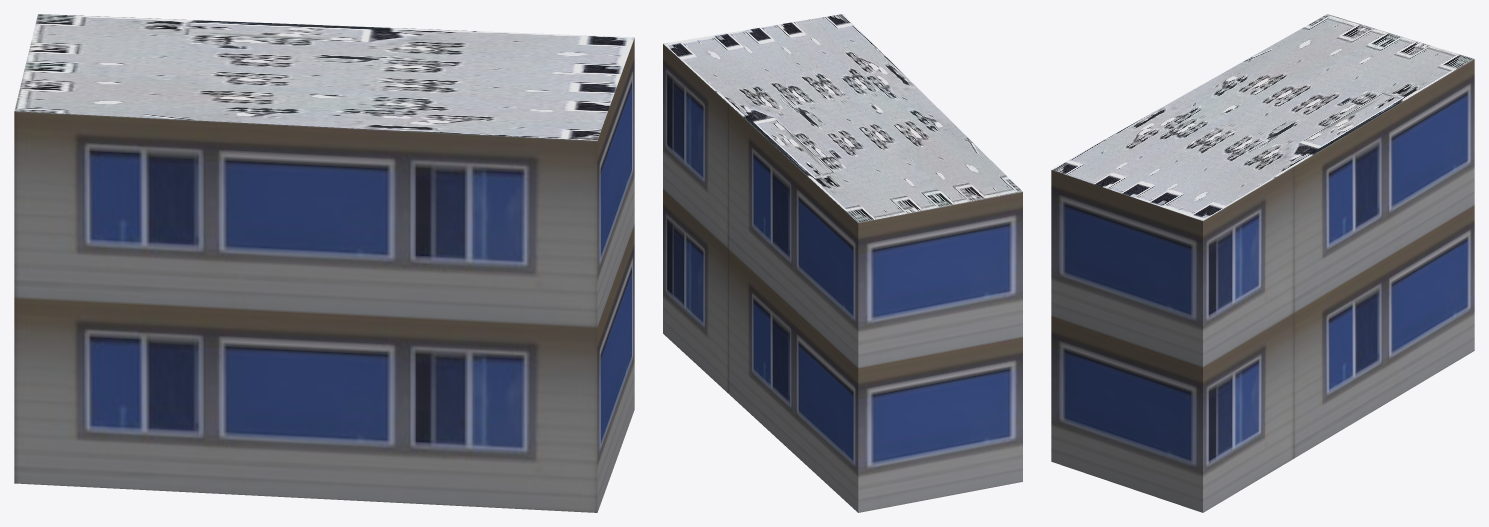
The model's file is ResTex__2908.fbx.
The picture shows the model from 3 angles, left to right: view 1: azimuth 30°, elevation 25°; view 2: azimuth 150°, elevation 25°; view 3: azimuth 270°, elevation 25°; orthographic projection. The views are drawn at different scales.
Parts seen in each view (by area): view 1: CityEngineMaterial_23_m, CityEngineMaterial_4_m; view 2: CityEngineMaterial_23_m, CityEngineMaterial_4_m; view 3: CityEngineMaterial_23_m, CityEngineMaterial_4_m.
Boxes of the visible parts, <box> form: CityEngineMaterial_23_m: <box>14,38,634,512</box>; CityEngineMaterial_4_m: <box>14,14,634,140</box>; CityEngineMaterial_23_m: <box>663,44,1022,512</box>; CityEngineMaterial_4_m: <box>663,14,1022,222</box>; CityEngineMaterial_23_m: <box>1051,59,1474,512</box>; CityEngineMaterial_4_m: <box>1051,14,1473,220</box>.
Size of the model in its own units: 9.13 by 6 by 7.88.
Materials: 2 (2 with a texture image).
